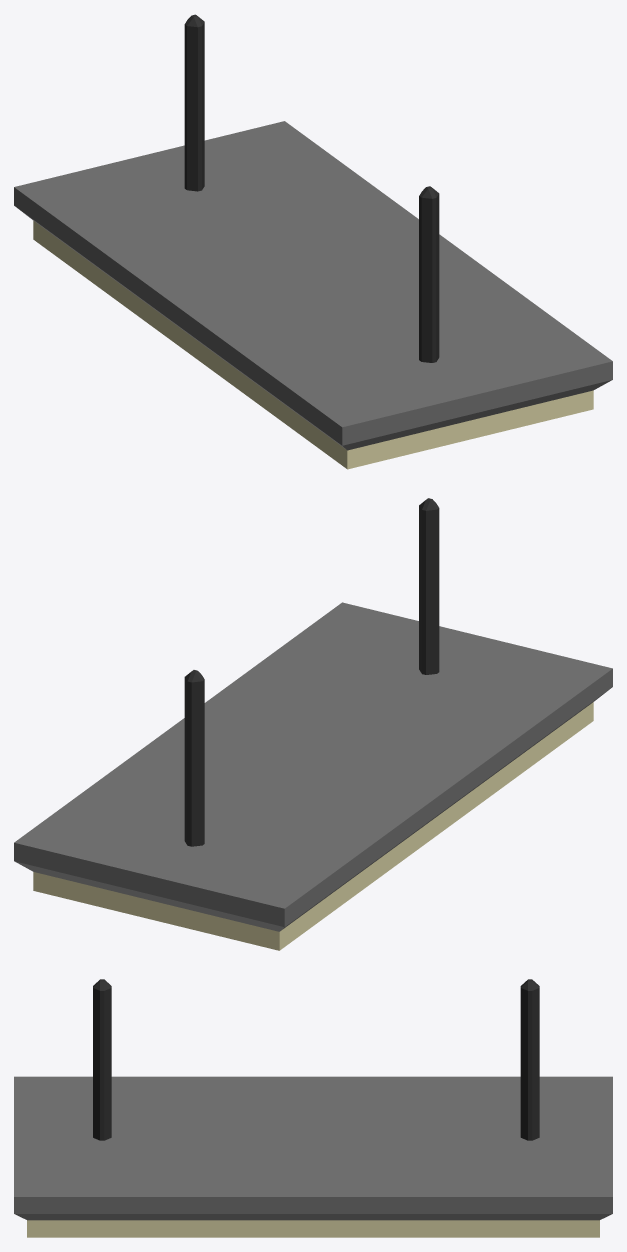
Rendered from LightPlot.fbx.
The picture shows the model from 3 angles, top to bottom: view 1: azimuth 30°, elevation 25°; view 2: azimuth 150°, elevation 25°; view 3: azimuth 270°, elevation 25°; orthographic projection. The views are drawn at different scales.
Visible parts, largest first — view 1: Cube; view 2: Cube; view 3: Cube.
Part boxes in pixels (x1,y1,x2,y2): Cube: [14, 14, 612, 469]; Cube: [14, 498, 612, 950]; Cube: [14, 979, 612, 1237].
Bounding box in the file's own units: 200 × 157 × 420.
